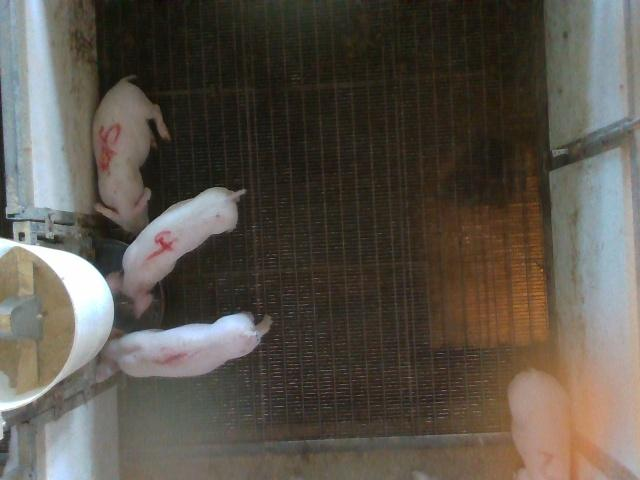pig-1: (99, 312, 271, 379)
pig-4: (106, 188, 244, 316)
pig-5: (92, 75, 170, 234)
